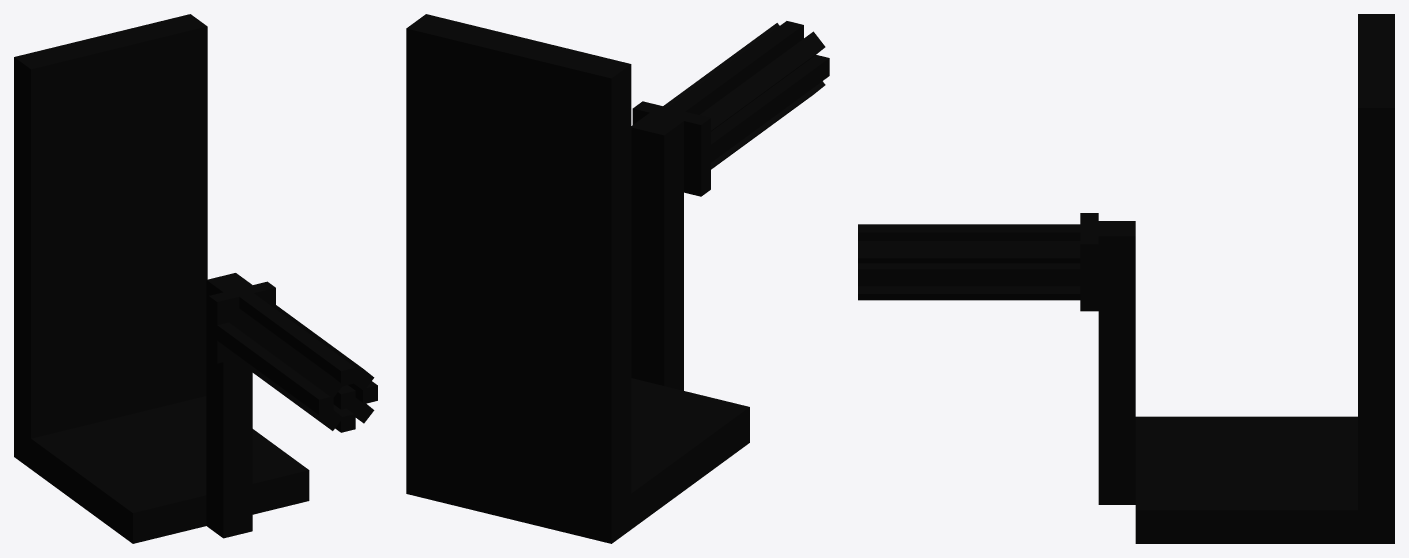
File: minigun_turret.obj
3 renders of one model, left to right at view 1: azimuth 30°, elevation 25°; view 2: azimuth 150°, elevation 25°; view 3: azimuth 270°, elevation 25°, orthographic. The views are drawn at different scales.
Visible parts, largest first — view 1: cube1, cube, cube2, cube7, cube5, cube11, cube3, cube12, cube9; view 2: cube1, cube, cube2, cube7, cube5, cube11, cube3, cube12, cube9; view 3: cube, cube1, cube2, cube8, cube9, cube5, cube10, cube3.
Part boxes in pixels (bbox=[...]): cube1: bbox=[14, 14, 207, 438]; cube: bbox=[14, 396, 309, 543]; cube2: bbox=[206, 273, 252, 538]; cube7: bbox=[217, 322, 333, 414]; cube5: bbox=[239, 293, 355, 386]; cube11: bbox=[221, 302, 341, 398]; cube3: bbox=[208, 281, 275, 363]; cube12: bbox=[220, 345, 342, 430]; cube9: bbox=[260, 295, 374, 390]; cube1: bbox=[406, 14, 631, 507]; cube: bbox=[406, 378, 749, 543]; cube2: bbox=[631, 112, 683, 390]; cube7: bbox=[711, 55, 829, 162]; cube5: bbox=[668, 21, 803, 114]; cube11: bbox=[700, 31, 825, 131]; cube3: bbox=[632, 101, 710, 196]; cube12: bbox=[711, 81, 825, 169]; cube9: bbox=[663, 23, 779, 107]; cube: bbox=[1135, 416, 1394, 543]; cube1: bbox=[1358, 14, 1394, 510]; cube2: bbox=[1098, 221, 1135, 504]; cube8: bbox=[858, 263, 1080, 286]; cube9: bbox=[858, 241, 1080, 263]; cube5: bbox=[858, 224, 1080, 240]; cube10: bbox=[858, 286, 1080, 300]; cube3: bbox=[1080, 213, 1098, 311].
Size of the model in its own units: 0.75 by 1.62 by 1.81.
